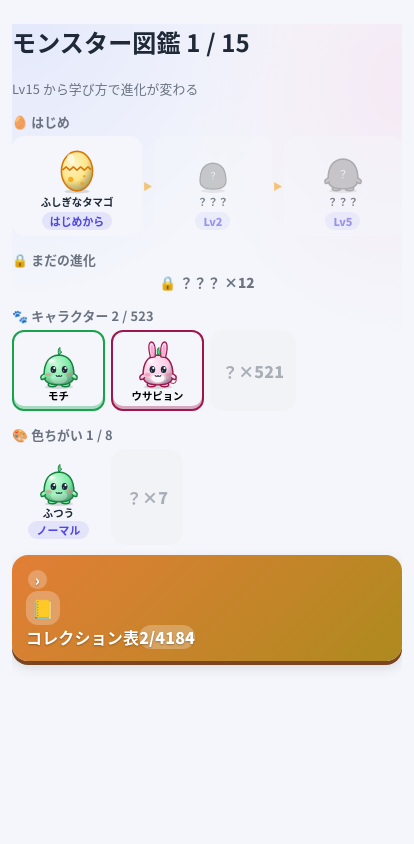
Scenario: 図鑑のキャラクターをタップすると説明とチャレンジの種類が出る
This screenshot has width=414, height=844.
Click the button with aria-label "ウサピョン：" at (158, 371), box [111, 330, 204, 411]
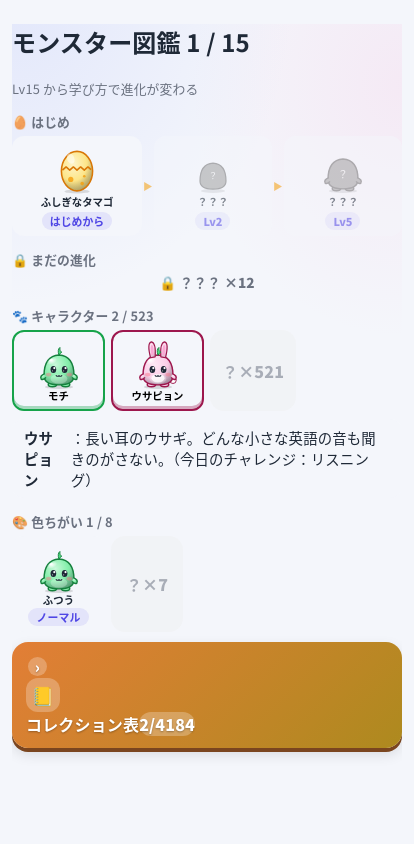
Check: the text "ウサピョン ：長い耳のウサギ。どんな小さな英語の音も聞きのがさない。（今日のチャレンジ：リスニング）" is shown, box [12, 419, 402, 498]
